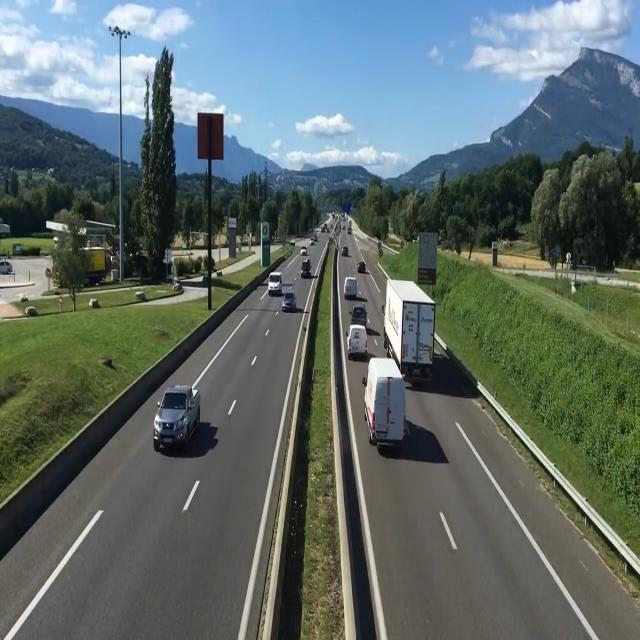car: (361, 358, 407, 448), (156, 384, 202, 458), (264, 264, 287, 300), (349, 324, 369, 356), (342, 274, 360, 304), (282, 289, 298, 315), (299, 255, 313, 279)
truck: (379, 280, 424, 350)
